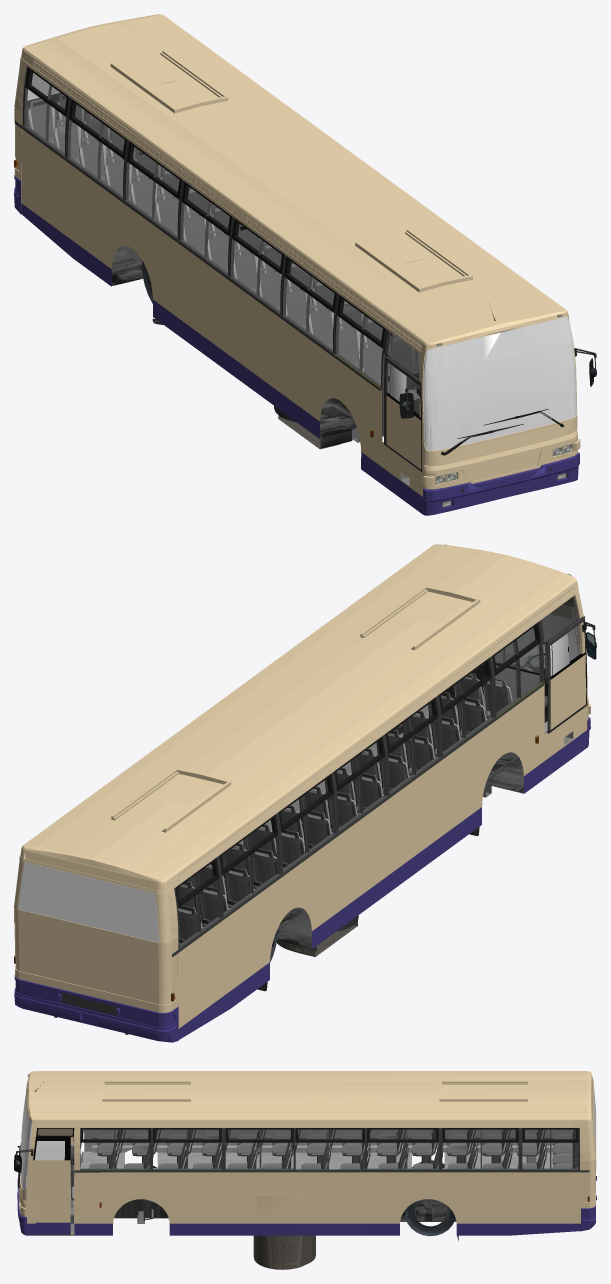
The model's file is indian_tgsrtc_bus_rig.glb.
3 views of the same model, one above another, from view 1: azimuth 30°, elevation 25°; view 2: azimuth 150°, elevation 25°; view 3: azimuth 270°, elevation 25° (orthographic). The views are drawn at different scales.
Parts seen in each view (by area): view 1: Body_Mesh; view 2: Body_Mesh; view 3: Body_Mesh, Wheel_FL_Mesh, Wheel_RL_Mesh.
Part boxes in pixels (box(x1,y1,x2,y2)): Body_Mesh: box(14, 14, 596, 515); Body_Mesh: box(14, 544, 596, 1042); Body_Mesh: box(14, 1071, 596, 1241); Wheel_FL_Mesh: box(281, 1235, 315, 1267); Wheel_RL_Mesh: box(253, 1235, 304, 1269).
Bounding box in the file's own units: 2.99 × 3.99 × 12.
79 materials, 53 textured.
